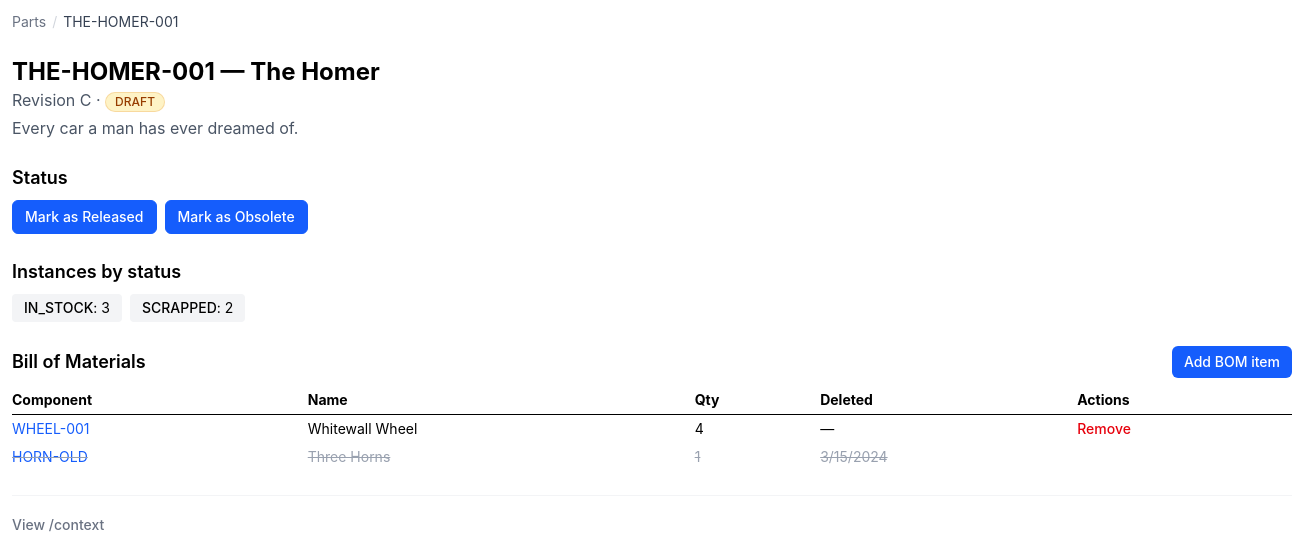
Test: PartDetail › surfaces a 422 INVALID_TRANSITION error from the transition
Expected: the heading "THE-HOMER-001 — The Homer" is shown, 12,57 -> 380,86
Click the button "Mark as Released": click(84, 217) 12,200 -> 156,234
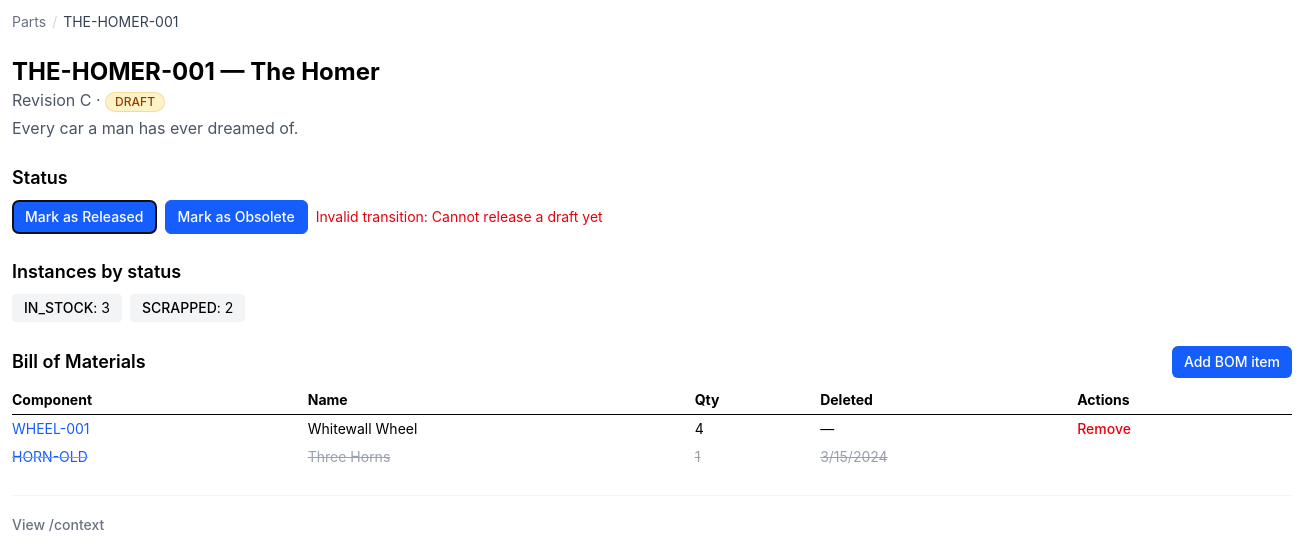
Expected: the text "Invalid transition: Cannot release a draft yet" is shown, 316,207 -> 603,227
